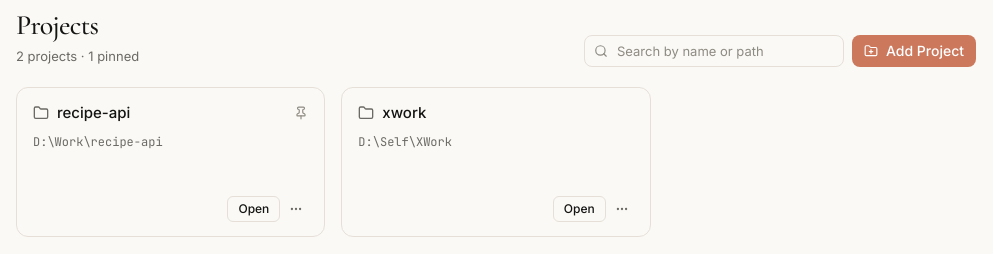
it: ProjectsRoute search › clears the query with the Clear search control
The width and height of the screenshot is (993, 254).
Expected: the heading "xwork" is shown, [382,102,426,122]
Type "xw" into the field named "Search projects by name or path" at (714, 50), box [584,34,844,66]
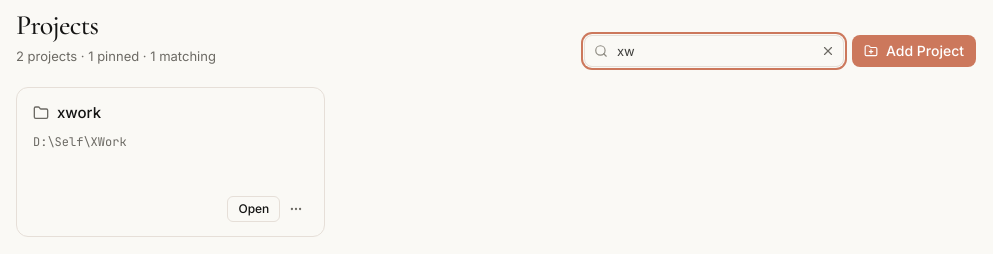
Click the button named "Clear search" at (828, 50), box [816,38,840,62]
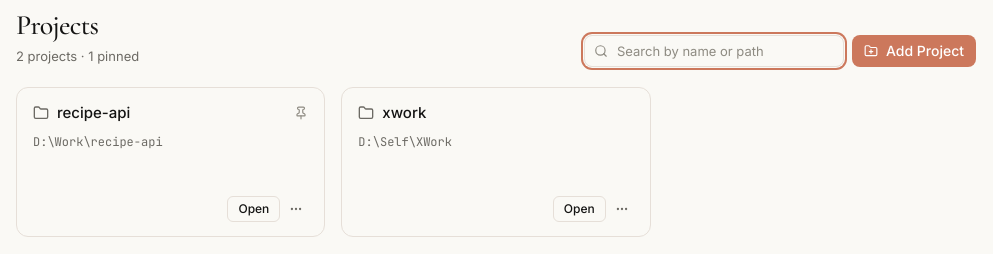
Now the field named "Search projects by name or path" is empty, box [584,34,844,66]
